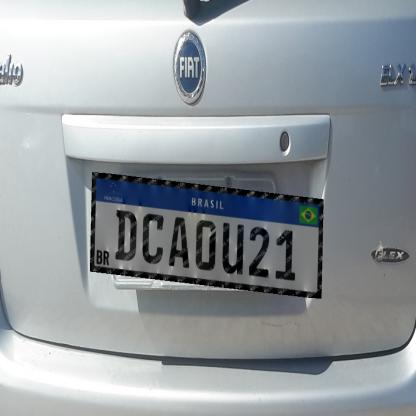PlacaM: (90, 172, 324, 299)
